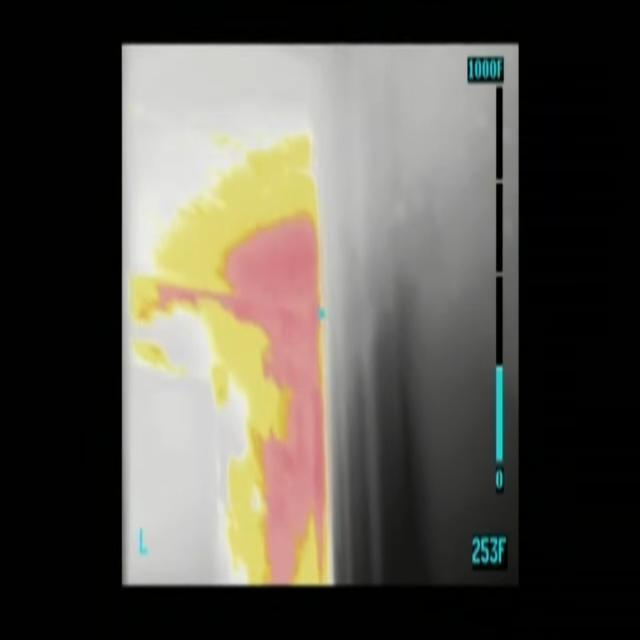fire: (132, 141, 335, 590)
